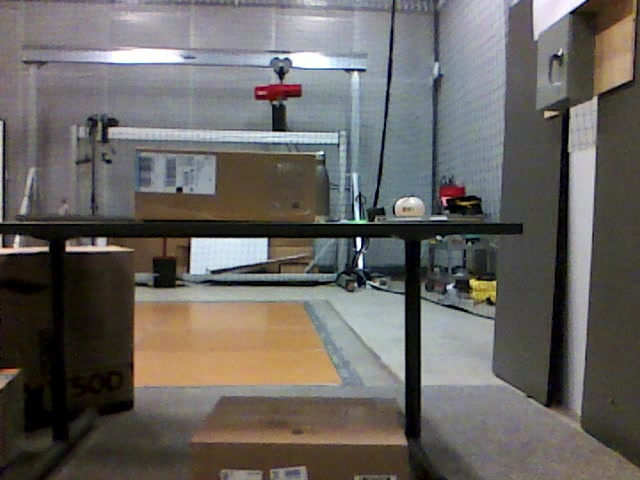box: (1, 248, 134, 424), (191, 396, 406, 480), (136, 149, 317, 224)
